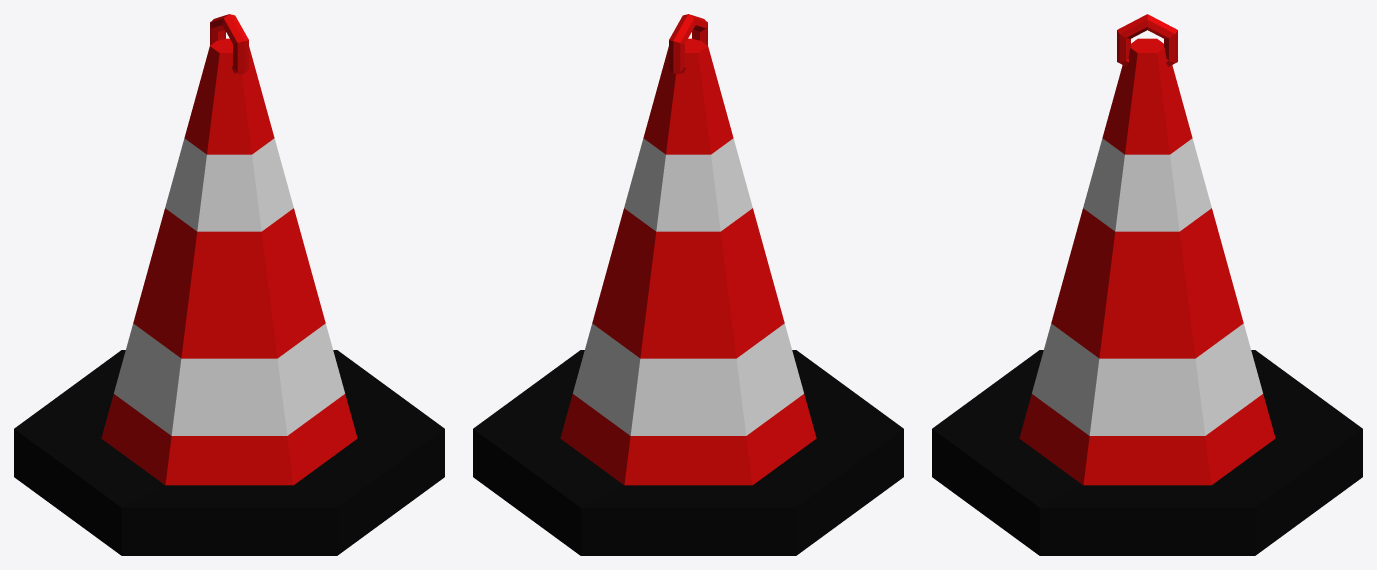
The model's file is duba.fbx.
The picture shows the model from 3 angles, left to right: view 1: azimuth 30°, elevation 25°; view 2: azimuth 150°, elevation 25°; view 3: azimuth 270°, elevation 25°; orthographic projection.
Visible parts, largest first — view 1: Cylinder; view 2: Cylinder; view 3: Cylinder.
Boxes of the visible parts, <box> form: Cylinder: <box>14,14,444,555</box>; Cylinder: <box>473,14,903,555</box>; Cylinder: <box>932,14,1362,555</box>.
Bounding box in the file's own units: 172 × 236 × 199.
